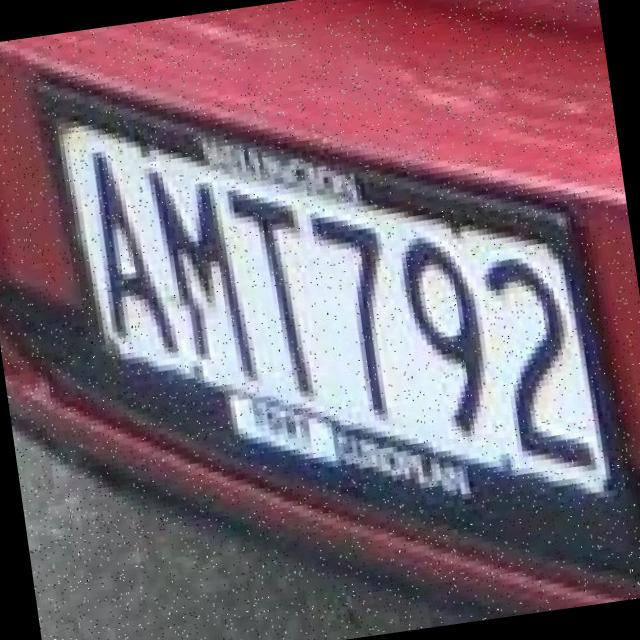LicensePlate: (27, 0, 640, 600)
